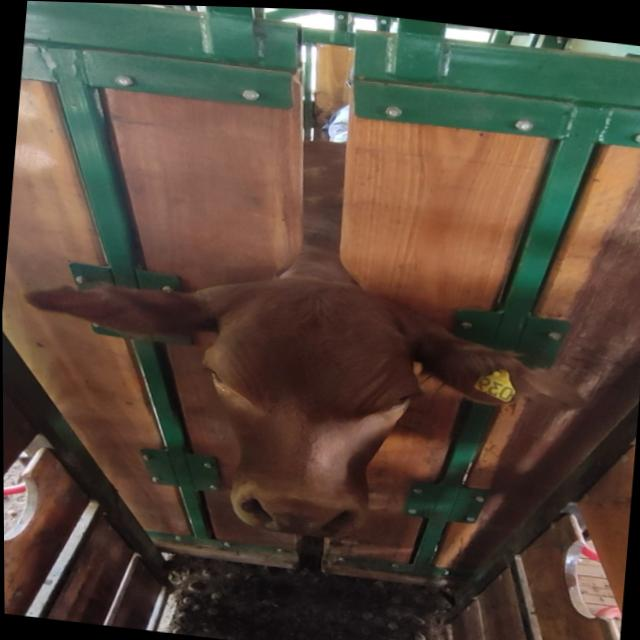cowFace: (187, 268, 431, 543)
